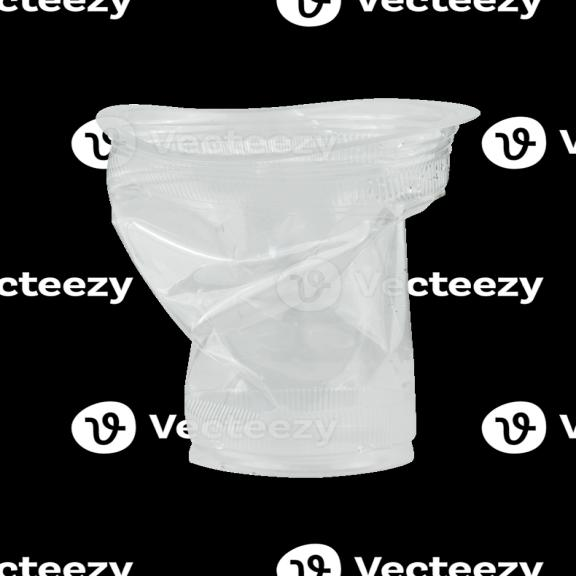Plastik: (97, 100, 479, 477)
